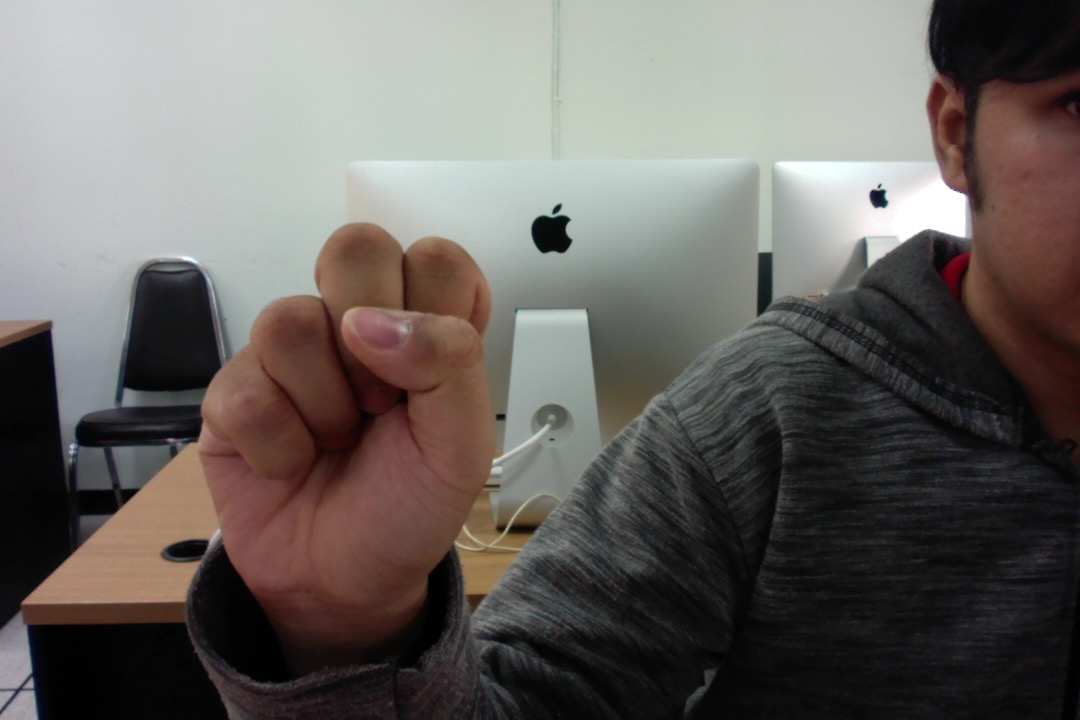sor: (189, 212, 502, 615)
